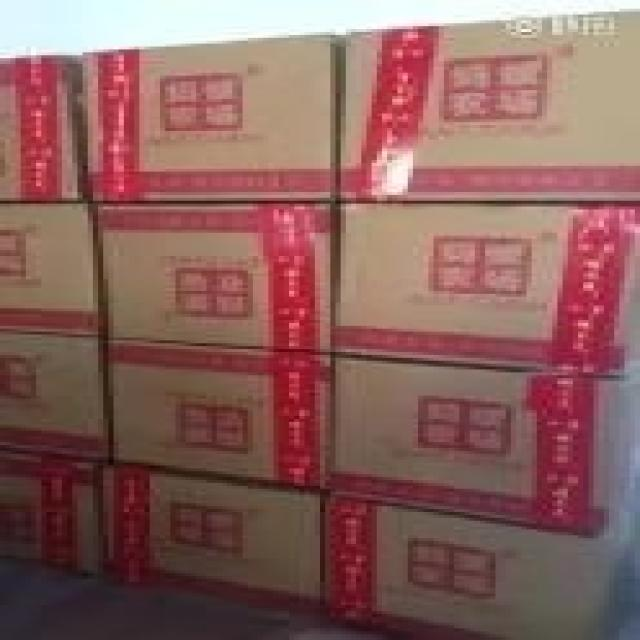box: (335, 9, 640, 201), (325, 358, 640, 538), (330, 204, 640, 381), (325, 497, 640, 640), (83, 32, 335, 201), (93, 204, 335, 352), (103, 465, 320, 623), (103, 340, 330, 489), (0, 335, 108, 463), (0, 204, 98, 337), (0, 454, 98, 582), (0, 55, 83, 204)
